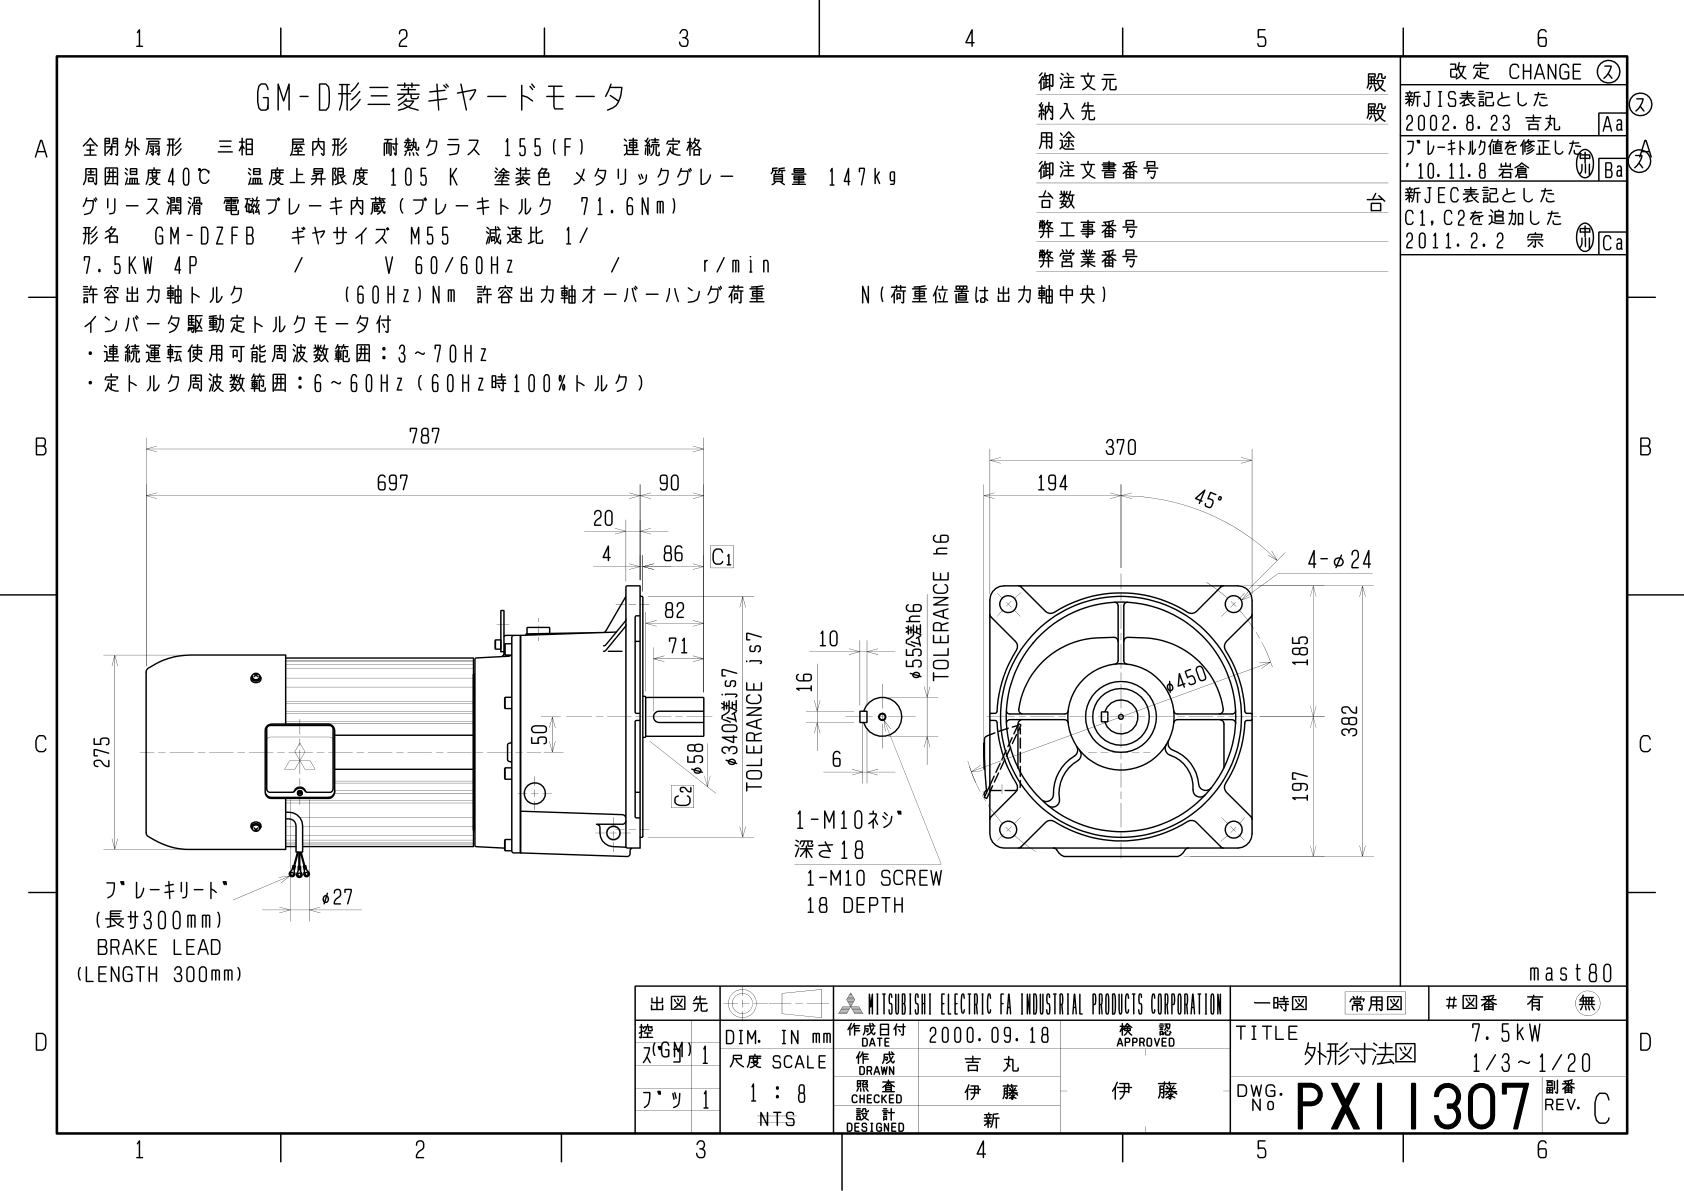GM_D_インバータ屋内_三相_フランジ: (1, 1, 1666, 1182)
